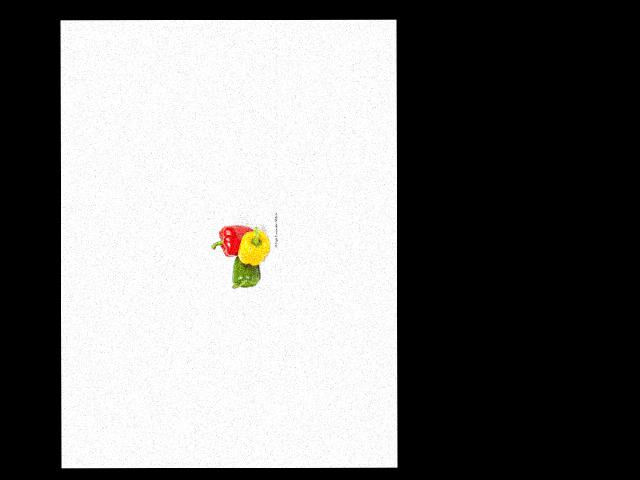bell_pepper: (211, 222, 251, 257)
